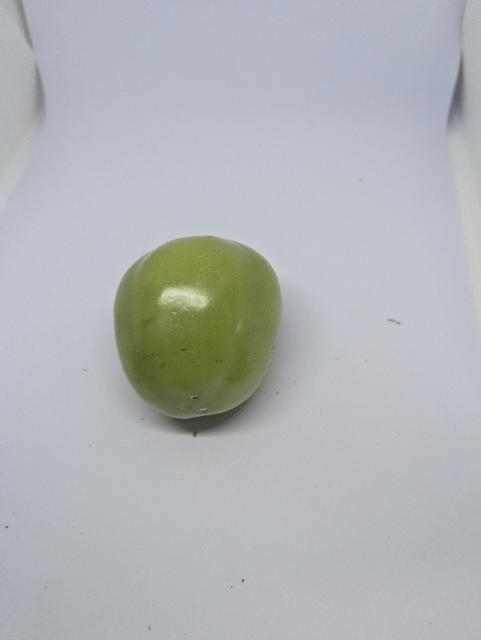green: (111, 222, 289, 432)
